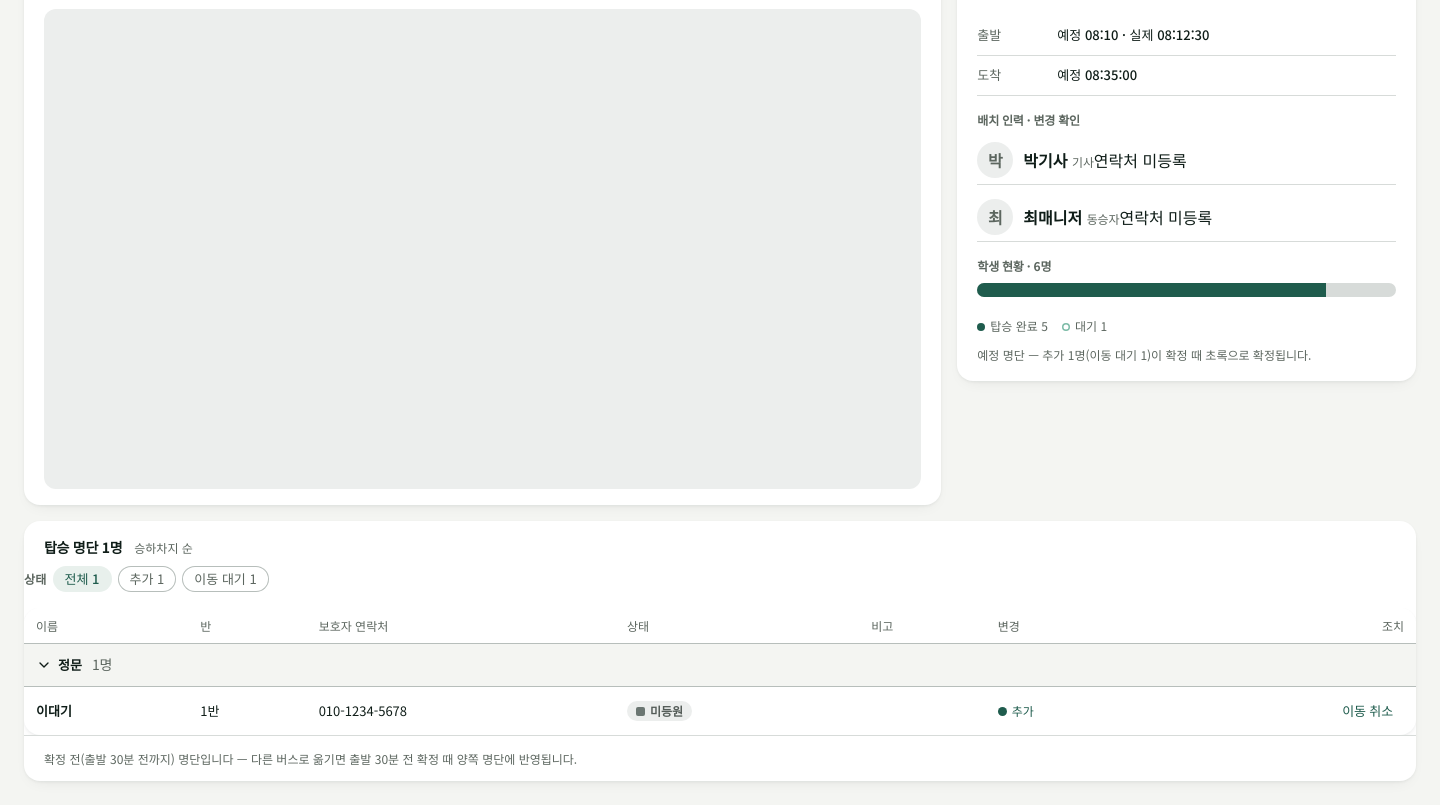
it: TodayRunPage — 회차 선택·명단·결석 라벨 › 다른 버스로 이동(A-07) › 이동 취소(§5.8.1) › 확인 문구가 학생이 원래 버스 명단으로 돌아간다고 말하되 지금 화면의 호차를 원래 버스로 적지 않는다
(page scrolled)
What coordinates should you click on to do the following:
click the button "이동 취소"
I would click on:
 (1368, 711)
Its box is [1331,697,1404,725].
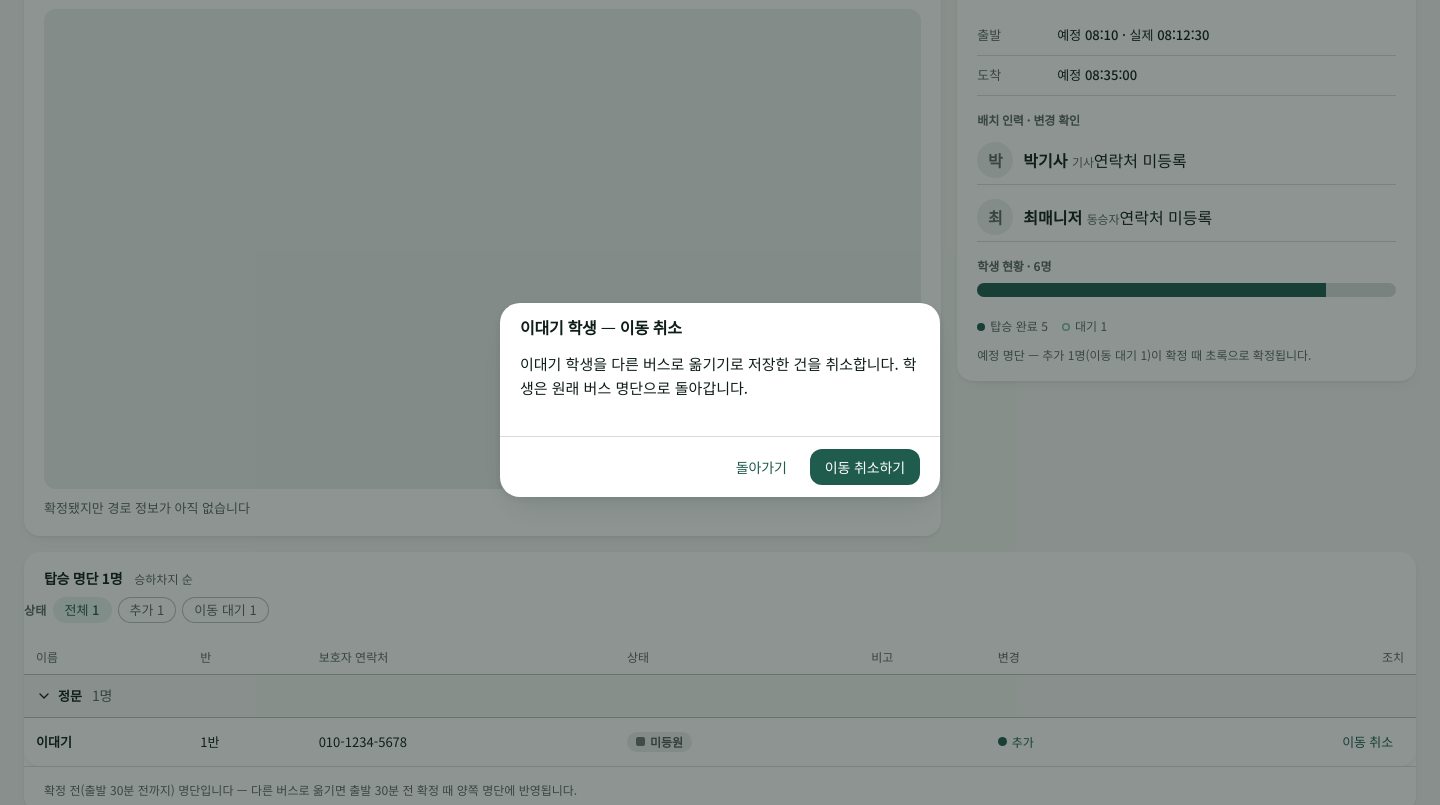
Check: the text "이대기 학생을 다른 버스로 옮기기로 저장한 건을 취소합니다. 학생은 원래 버스 명단으로 돌아갑니다." is shown, box [520,352,920,400]
